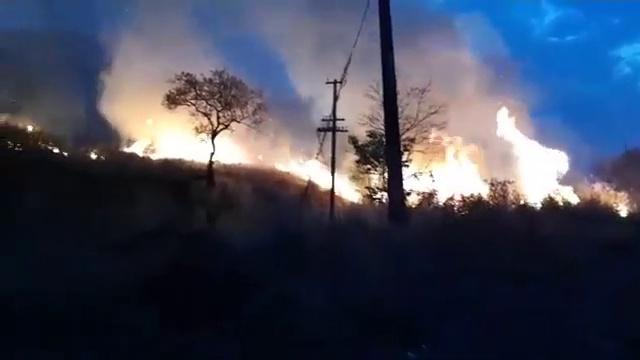fire: (520, 145, 565, 197), (417, 157, 474, 193), (149, 127, 205, 158)
smoke: (301, 4, 359, 101), (135, 16, 181, 93)
